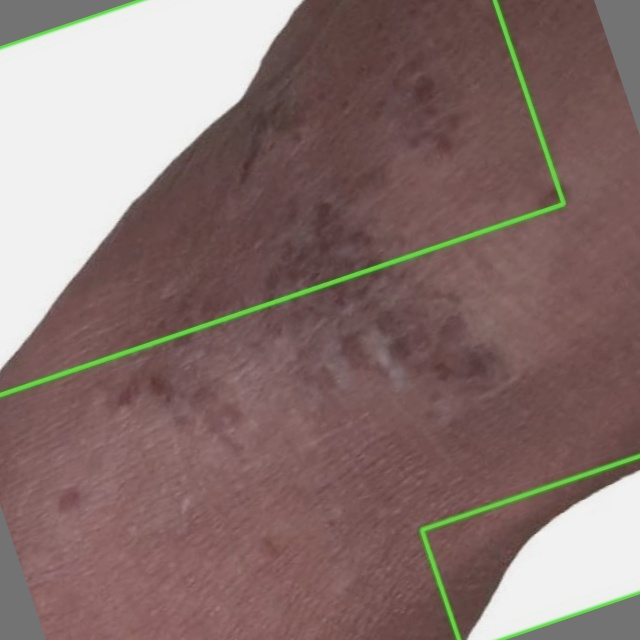Contact Dermatitis: (0, 0, 563, 395), (421, 456, 639, 639)
